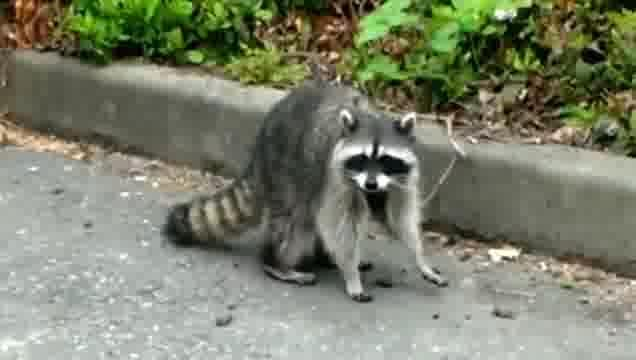raccoon: (152, 79, 459, 305)
